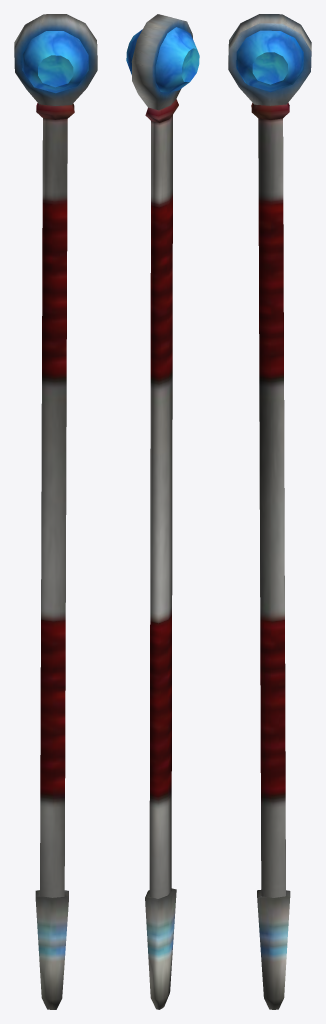
The model's file is weapons_fa_msd.glb.
3 views of the same model, side by side, from view 1: azimuth 90°, elevation 25°; view 2: azimuth 150°, elevation 25°; view 3: azimuth 270°, elevation 25° (orthographic).
Parts seen in each view (by area): view 1: fa_msd; view 2: fa_msd; view 3: fa_msd.
Part boxes in pixels (x1,y1,x2,y2): fa_msd: [14, 14, 97, 1009]; fa_msd: [126, 14, 199, 1009]; fa_msd: [228, 14, 311, 1009].
Bounding box in the file's own units: 0.0991 × 1.68 × 0.1279.
Materials: 1 (1 with a texture image).
